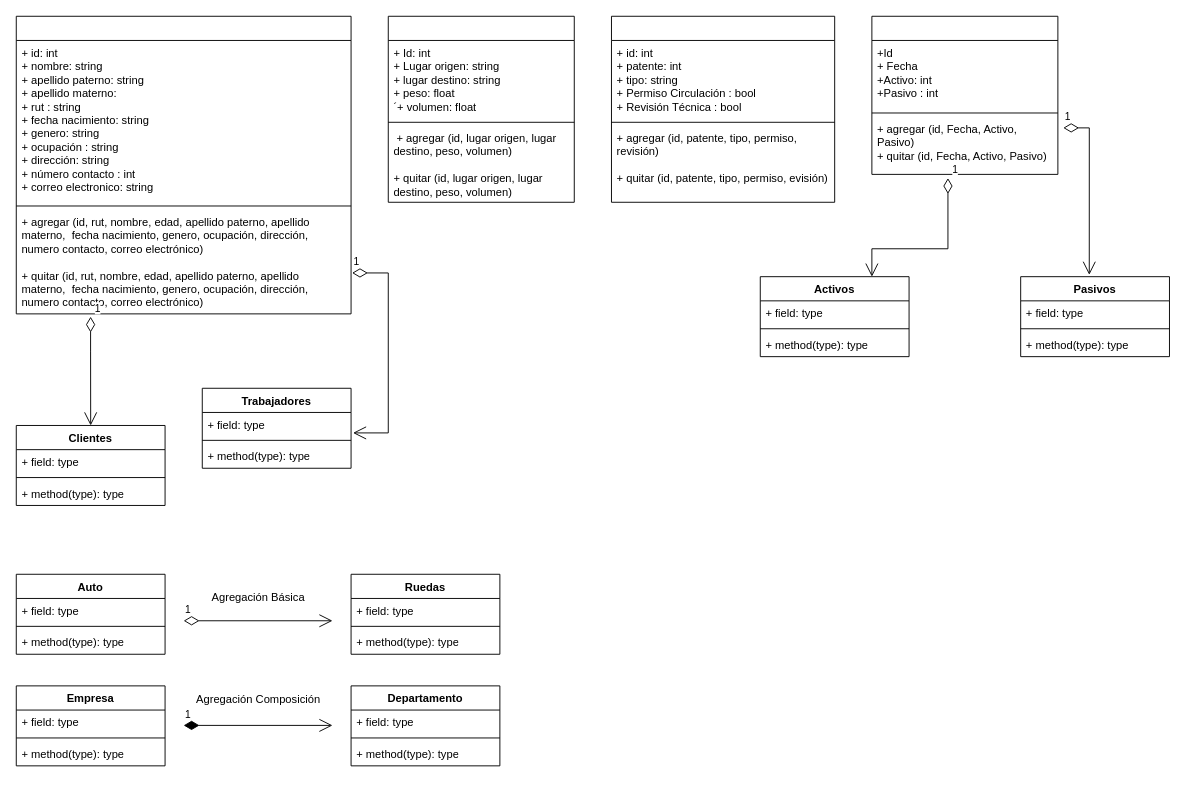
The diagram is 1186 pixels wide and 785 high, and some of its shapes have lost their labels. Here are the shapes that lost their labels. From the top down, the box of each, then its label:
(387, 15, 574, 202): Carga
(611, 15, 835, 202): Vehiculos
(871, 15, 1058, 174): Contabilidad
(15, 15, 351, 314): Persona
